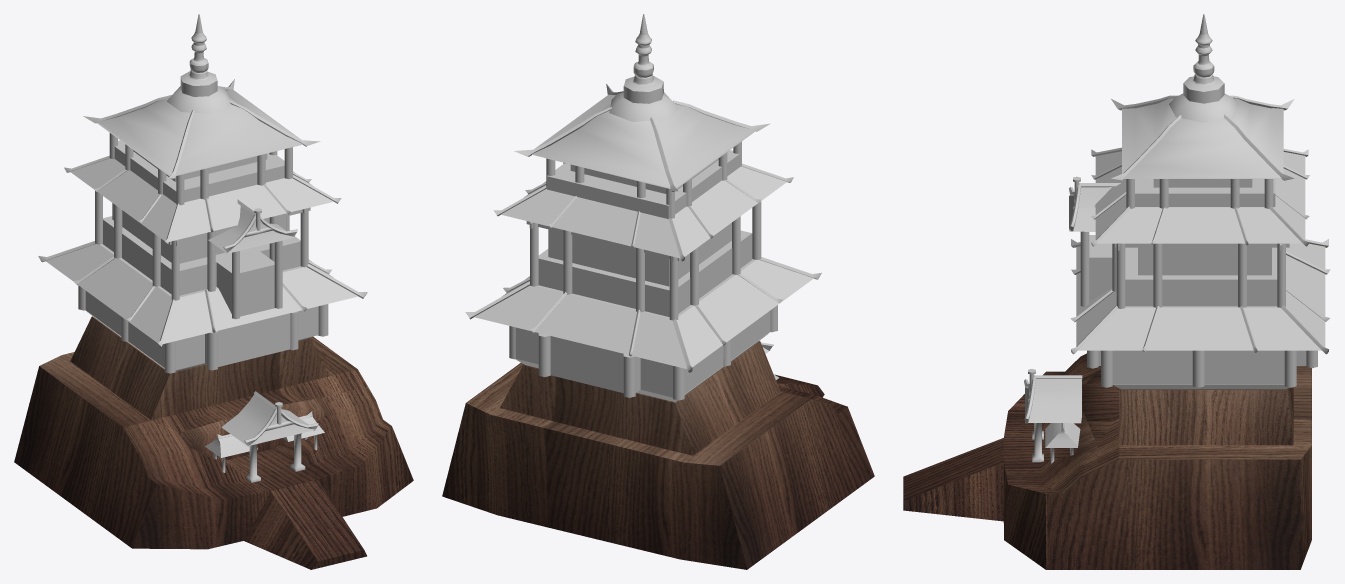
File: Temple.obj
The picture shows the model from 3 angles, left to right: view 1: azimuth 30°, elevation 25°; view 2: azimuth 150°, elevation 25°; view 3: azimuth 270°, elevation 25°; orthographic projection. The views are drawn at different scales.
Parts seen in each view (by area): view 1: socle, roof, outside, pilar_house, base, deco_roof, inside, pointe, pointe_socle, pillar, deco_front, front; view 2: socle, roof, outside, pilar_house, base, inside, deco_roof, pointe, pointe_socle, under; view 3: socle, roof, outside, pilar_house, base, deco_roof, inside, pointe, pointe_socle, under, poutre.
Part boxes in pixels (x1=…): socle: x1=14, y1=316, x2=413, y2=569; roof: x1=46, y1=89, x2=358, y2=457; outside: x1=103, y1=140, x2=300, y2=316; pilar_house: x1=78, y1=133, x2=328, y2=373; base: x1=85, y1=291, x2=318, y2=370; deco_roof: x1=38, y1=79, x2=367, y2=438; inside: x1=112, y1=150, x2=285, y2=263; pointe: x1=180, y1=14, x2=217, y2=96; pointe_socle: x1=166, y1=86, x2=230, y2=113; pillar: x1=213, y1=433, x2=317, y2=482; deco_front: x1=223, y1=215, x2=318, y2=446; front: x1=244, y1=208, x2=295, y2=431; socle: x1=442, y1=341, x2=874, y2=569; roof: x1=474, y1=94, x2=813, y2=379; outside: x1=538, y1=150, x2=752, y2=316; pilar_house: x1=509, y1=141, x2=777, y2=400; base: x1=515, y1=311, x2=770, y2=397; inside: x1=548, y1=158, x2=731, y2=286; deco_roof: x1=465, y1=84, x2=821, y2=372; pointe: x1=623, y1=14, x2=663, y2=103; pointe_socle: x1=609, y1=92, x2=678, y2=121; under: x1=502, y1=130, x2=770, y2=402; socle: x1=903, y1=353, x2=1311, y2=569; roof: x1=1025, y1=98, x2=1325, y2=447; outside: x1=1089, y1=179, x2=1277, y2=306; pilar_house: x1=1080, y1=179, x2=1317, y2=387; base: x1=1098, y1=350, x2=1306, y2=384; deco_roof: x1=1034, y1=95, x2=1330, y2=432; inside: x1=1138, y1=179, x2=1271, y2=275; pointe: x1=1183, y1=14, x2=1224, y2=103; pointe_socle: x1=1169, y1=93, x2=1238, y2=122; under: x1=1112, y1=178, x2=1288, y2=389; poutre: x1=1115, y1=243, x2=1289, y2=250.
Bounding box in the file's own units: 35.68 × 54.14 × 43.57.
